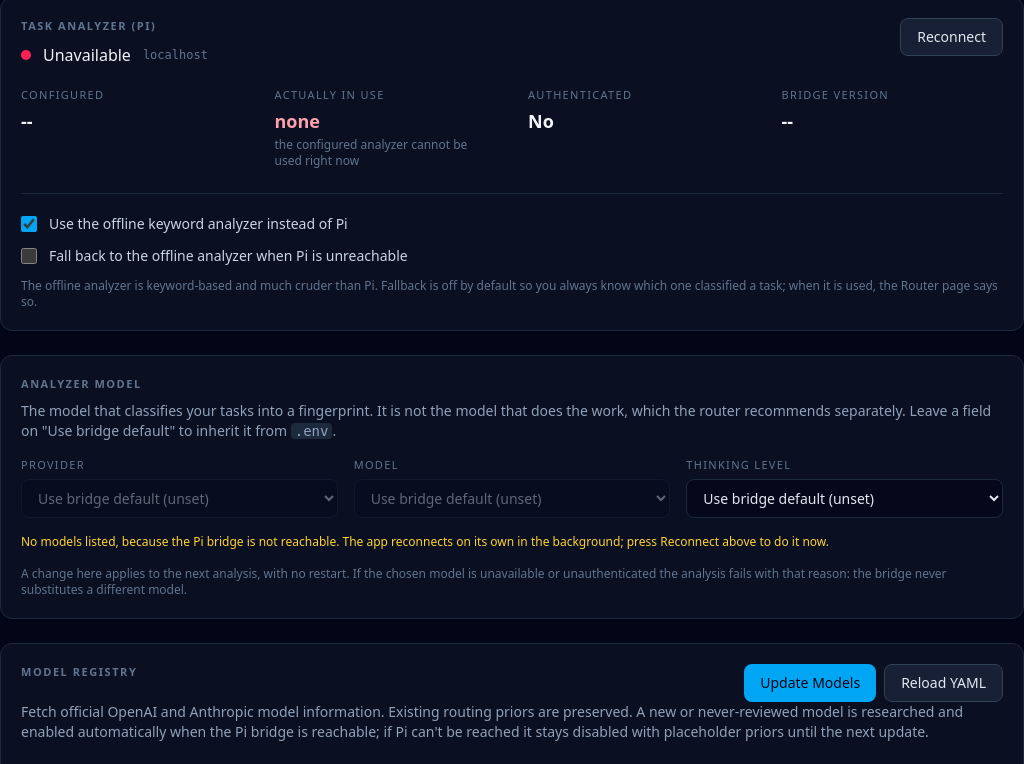
Test: updates models from Settings, refreshes state, and displays the result
Click the button "Update Models" at [810, 683], box left=744, top=664, right=876, bottom=702
(page scrolled)
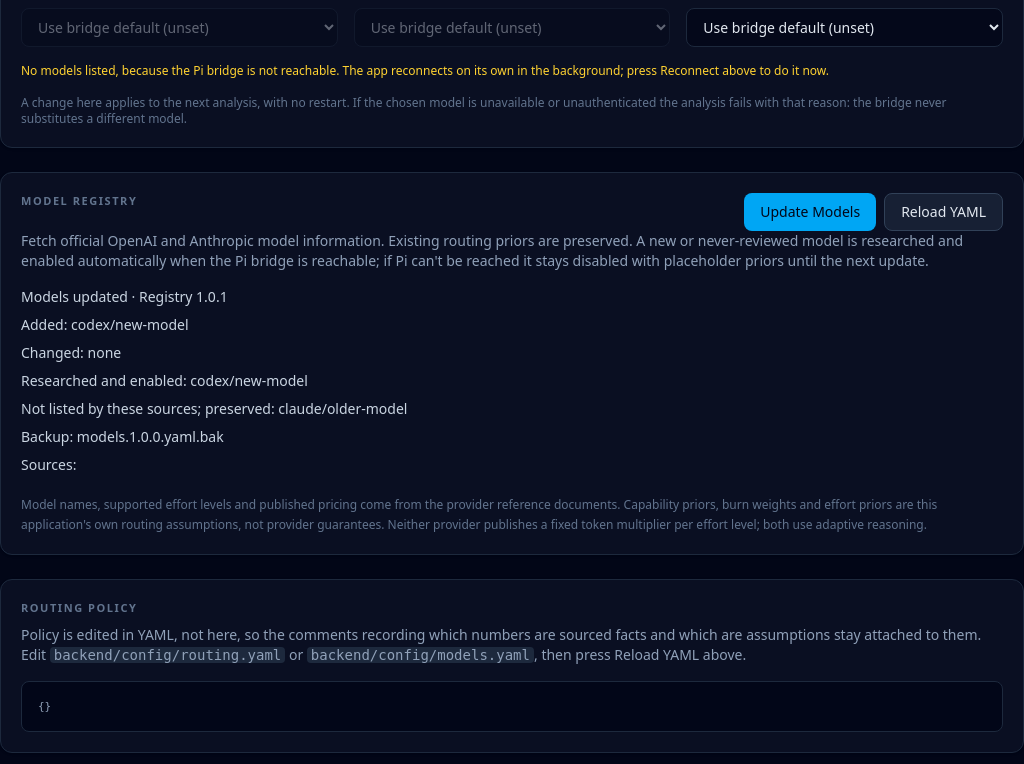
Expected: the message shows "Models updated", left=21, top=287, right=128, bottom=306
Expected: the message shows "codex/new-model", left=71, top=315, right=189, bottom=334
Expected: the message shows "Researched and enabled: codex/new-model", left=21, top=287, right=408, bottom=474
